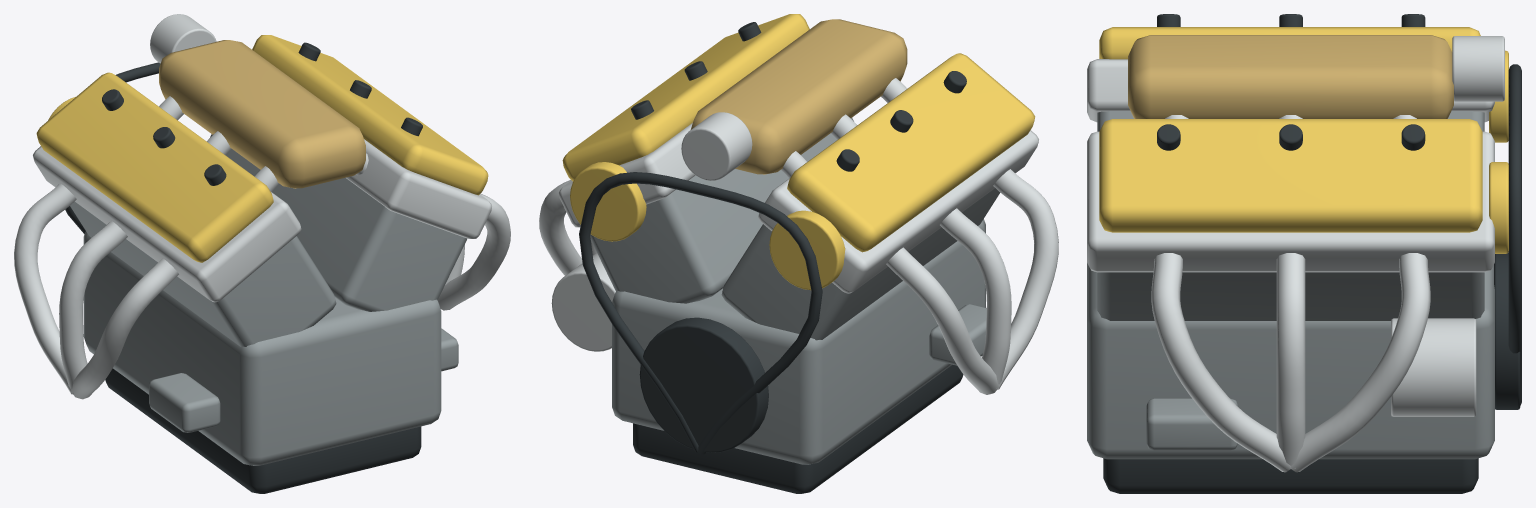
File: engine_valley.fbx
The picture shows the model from 3 angles, left to right: view 1: azimuth 30°, elevation 25°; view 2: azimuth 150°, elevation 25°; view 3: azimuth 270°, elevation 25°; orthographic projection. The views are drawn at different scales.
Parts seen in each view (by area): view 1: engine_valley; view 2: engine_valley; view 3: engine_valley.
Part boxes in pixels (x1,y1,x2,y2): engine_valley: (14,14,510,493); engine_valley: (539,14,1058,493); engine_valley: (1087,14,1521,493).
Size of the model in its own units: 84.83 by 69 by 66.1.
